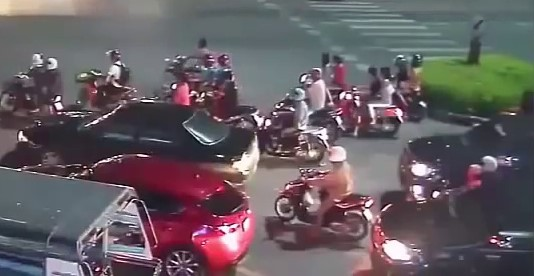car: (18, 158, 258, 275), (18, 101, 259, 192), (371, 185, 534, 273), (399, 114, 534, 194)
motorbike: (276, 148, 371, 239), (274, 73, 345, 149), (259, 90, 329, 165), (332, 67, 402, 142), (2, 54, 65, 124), (195, 72, 257, 142), (76, 47, 138, 116), (386, 54, 428, 128)
